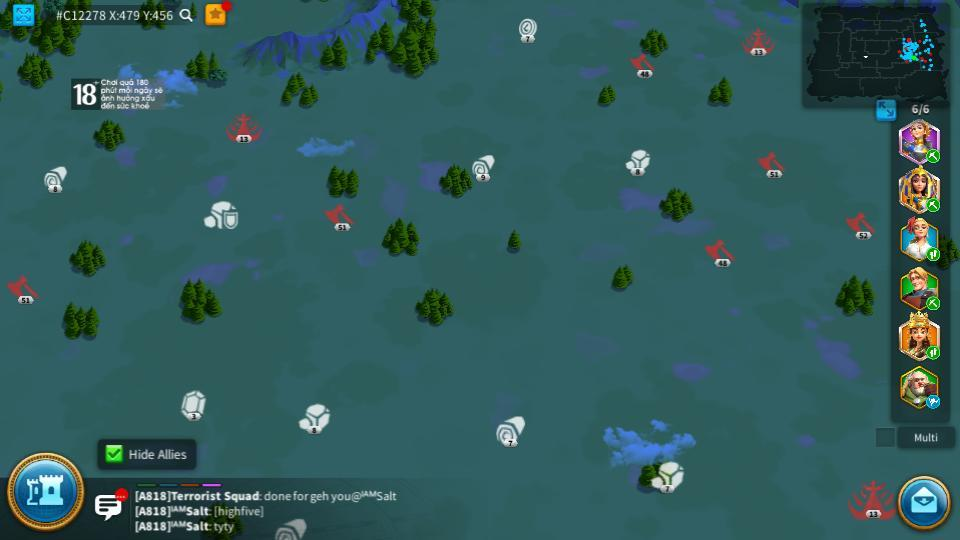gem-z-out: (180, 389, 206, 418)
march_farming: (925, 197, 941, 212), (925, 150, 942, 162), (925, 297, 942, 308)
march_idle: (925, 396, 942, 408)
march_marching: (925, 347, 941, 359), (927, 248, 940, 260)
